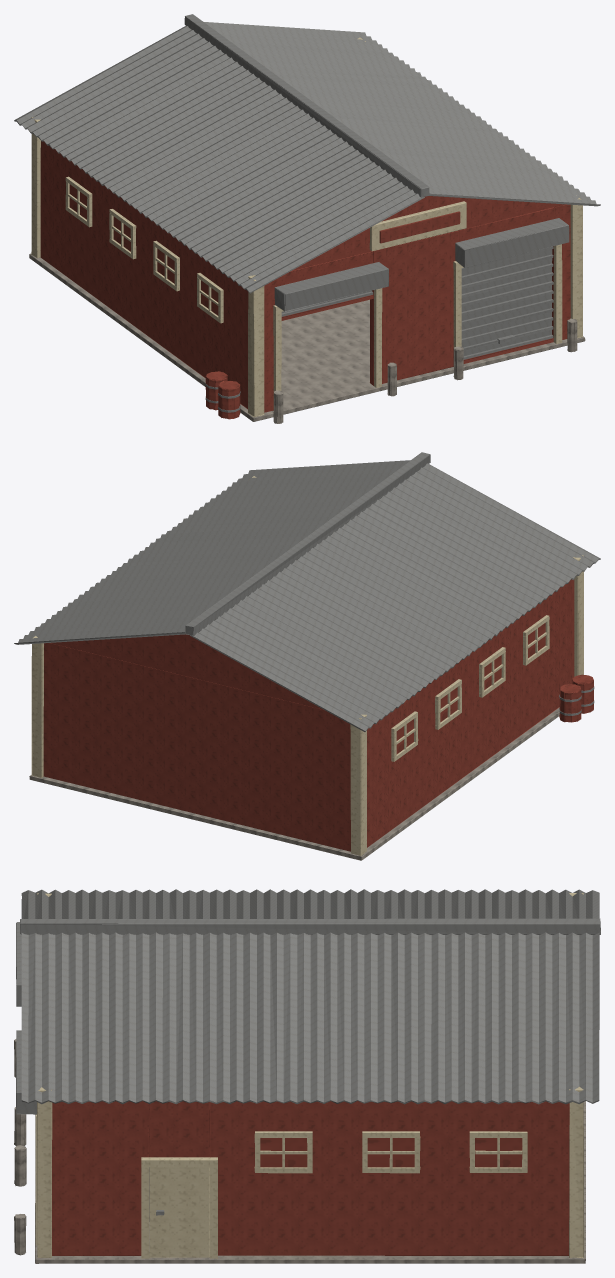
File: garage.glb
3 renders of one model, top to bottom at view 1: azimuth 30°, elevation 25°; view 2: azimuth 150°, elevation 25°; view 3: azimuth 270°, elevation 25°, orthographic. The views are drawn at different scales.
Parts seen in each view (by area): view 1: Garage; view 2: Garage; view 3: Garage.
Boxes of the visible parts, box(x1,y1,x2,y2) form: Garage: box(14, 14, 600, 423); Garage: box(14, 452, 600, 860); Garage: box(14, 889, 600, 1263).
Size of the model in its own units: 10.69 by 5.61 by 12.23.
Materials: 4 (4 with a texture image).
